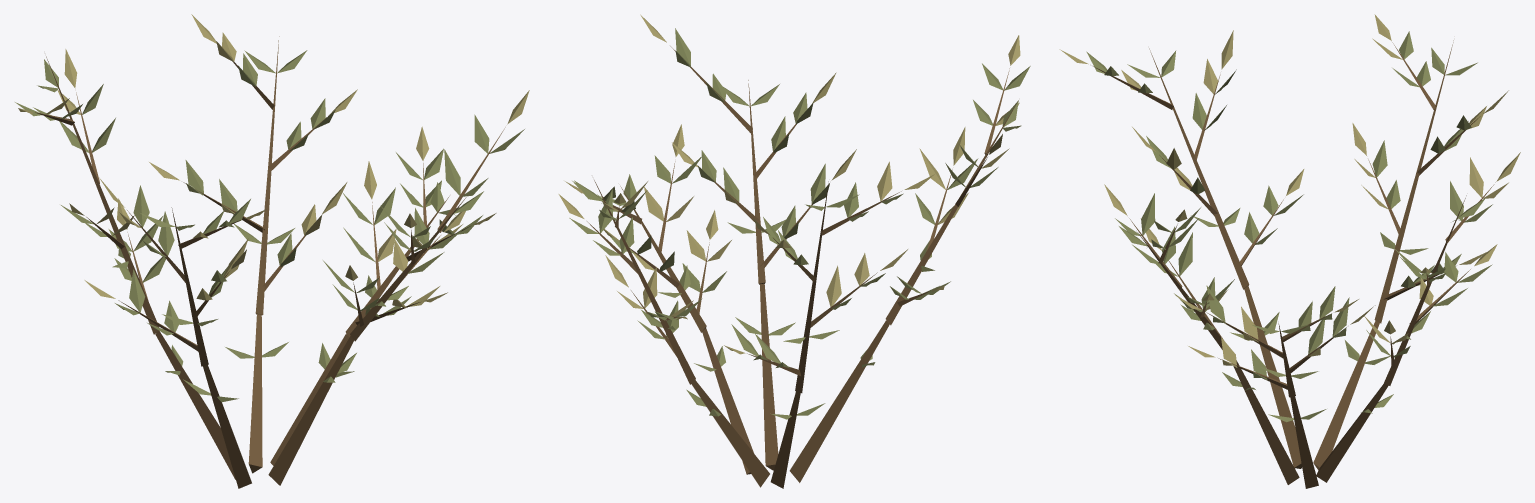
The model's file is bush-2.glb.
3 views of the same model, side by side, from view 1: azimuth 30°, elevation 25°; view 2: azimuth 150°, elevation 25°; view 3: azimuth 270°, elevation 25° (orthographic). The views are drawn at different scales.
Parts seen in each view (by area): view 1: bush-2-lod0; view 2: bush-2-lod0; view 3: bush-2-lod0.
Part boxes in pixels (left/top/right/bottom): bush-2-lod0: left=15, top=14, right=529, bottom=488; bush-2-lod0: left=558, top=14, right=1030, bottom=488; bush-2-lod0: left=1059, top=14, right=1520, bottom=488.
Bounding box in the file's own units: 2.52 × 2.4 × 2.62.
